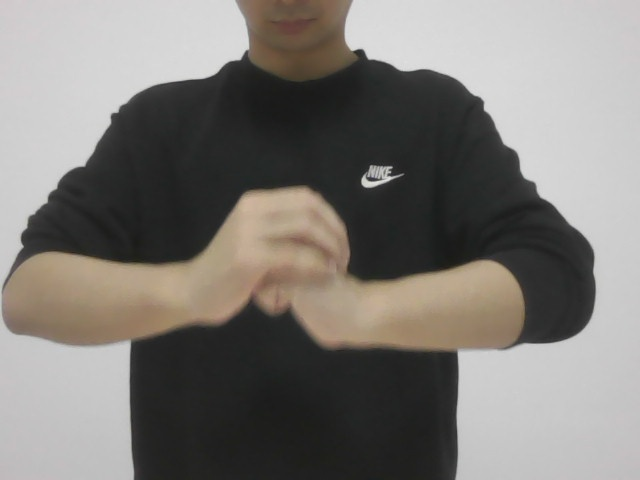wish: (170, 180, 380, 352)
